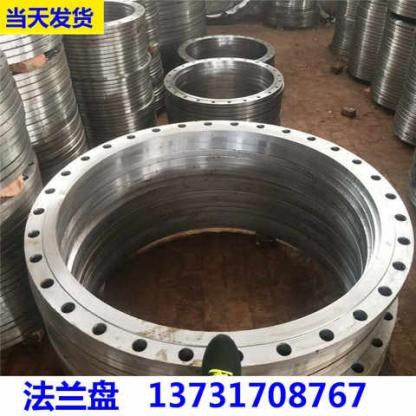FOD: (19, 115, 415, 376)
